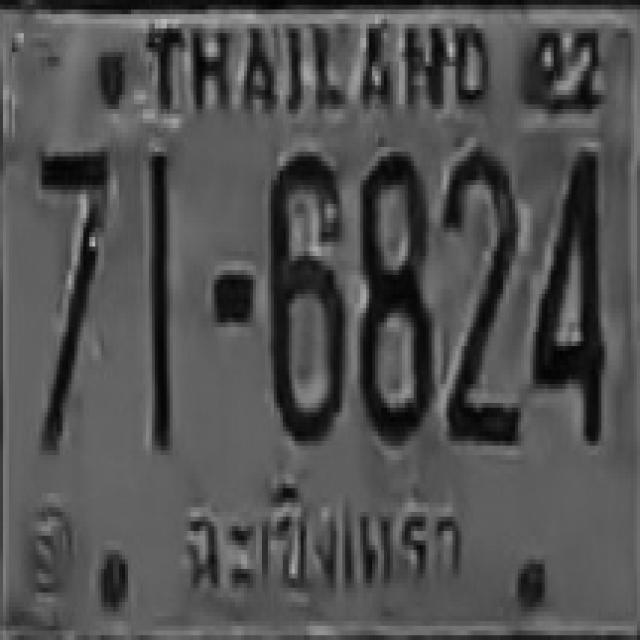1: (148, 147, 172, 450)
2: (442, 147, 517, 446)
4: (531, 147, 603, 441)
6: (268, 150, 345, 438)
7: (37, 147, 109, 450)
8: (357, 150, 432, 438)
Chachoengsao: (178, 474, 475, 592)
